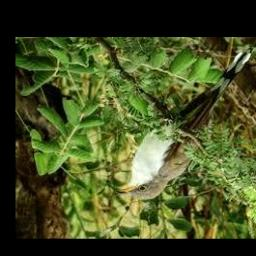Cuckoo: (114, 51, 252, 199)
